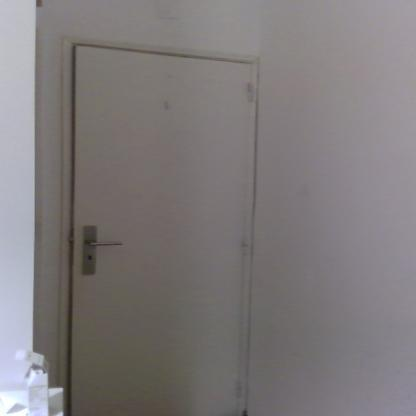door: (73, 44, 242, 415)
hinged: (236, 379, 244, 399), (247, 80, 254, 102), (242, 237, 248, 255)
lever: (86, 240, 125, 247)
